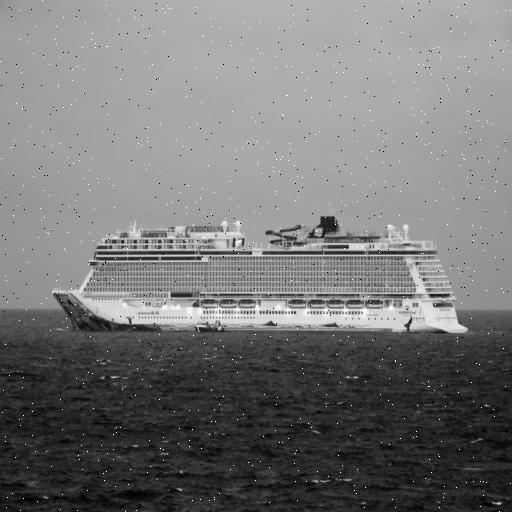cruises: (49, 214, 471, 344)
